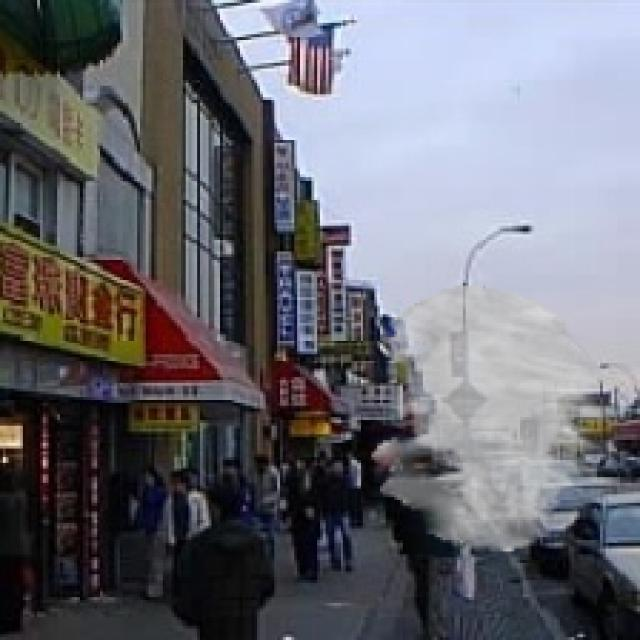smoke: (372, 286, 612, 551)
